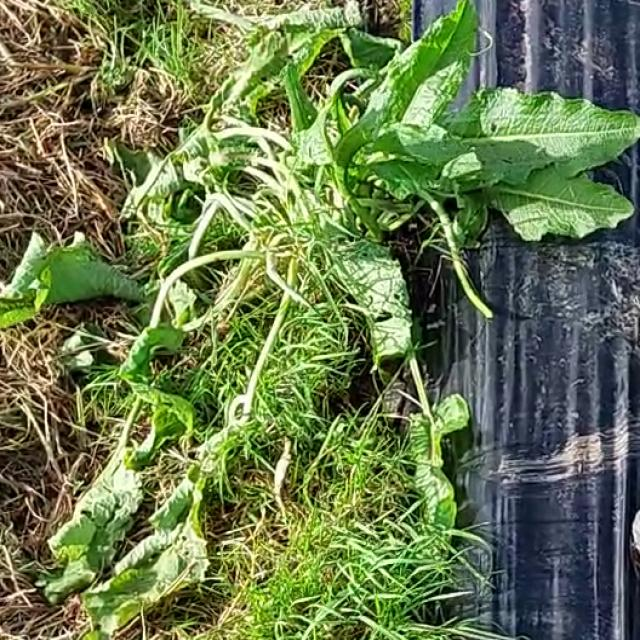organic waste: (245, 35, 640, 282), (35, 317, 266, 640), (0, 219, 310, 400), (82, 114, 340, 261)
